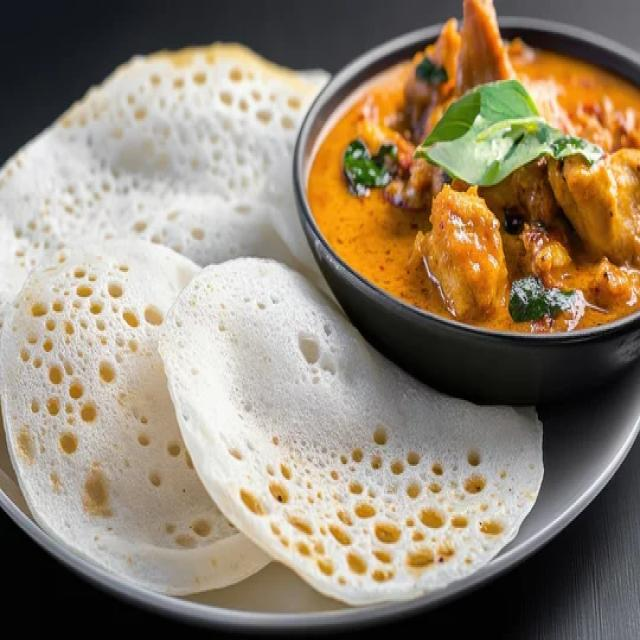AAPAM: (0, 39, 570, 638)
KURMA: (312, 26, 639, 333)
